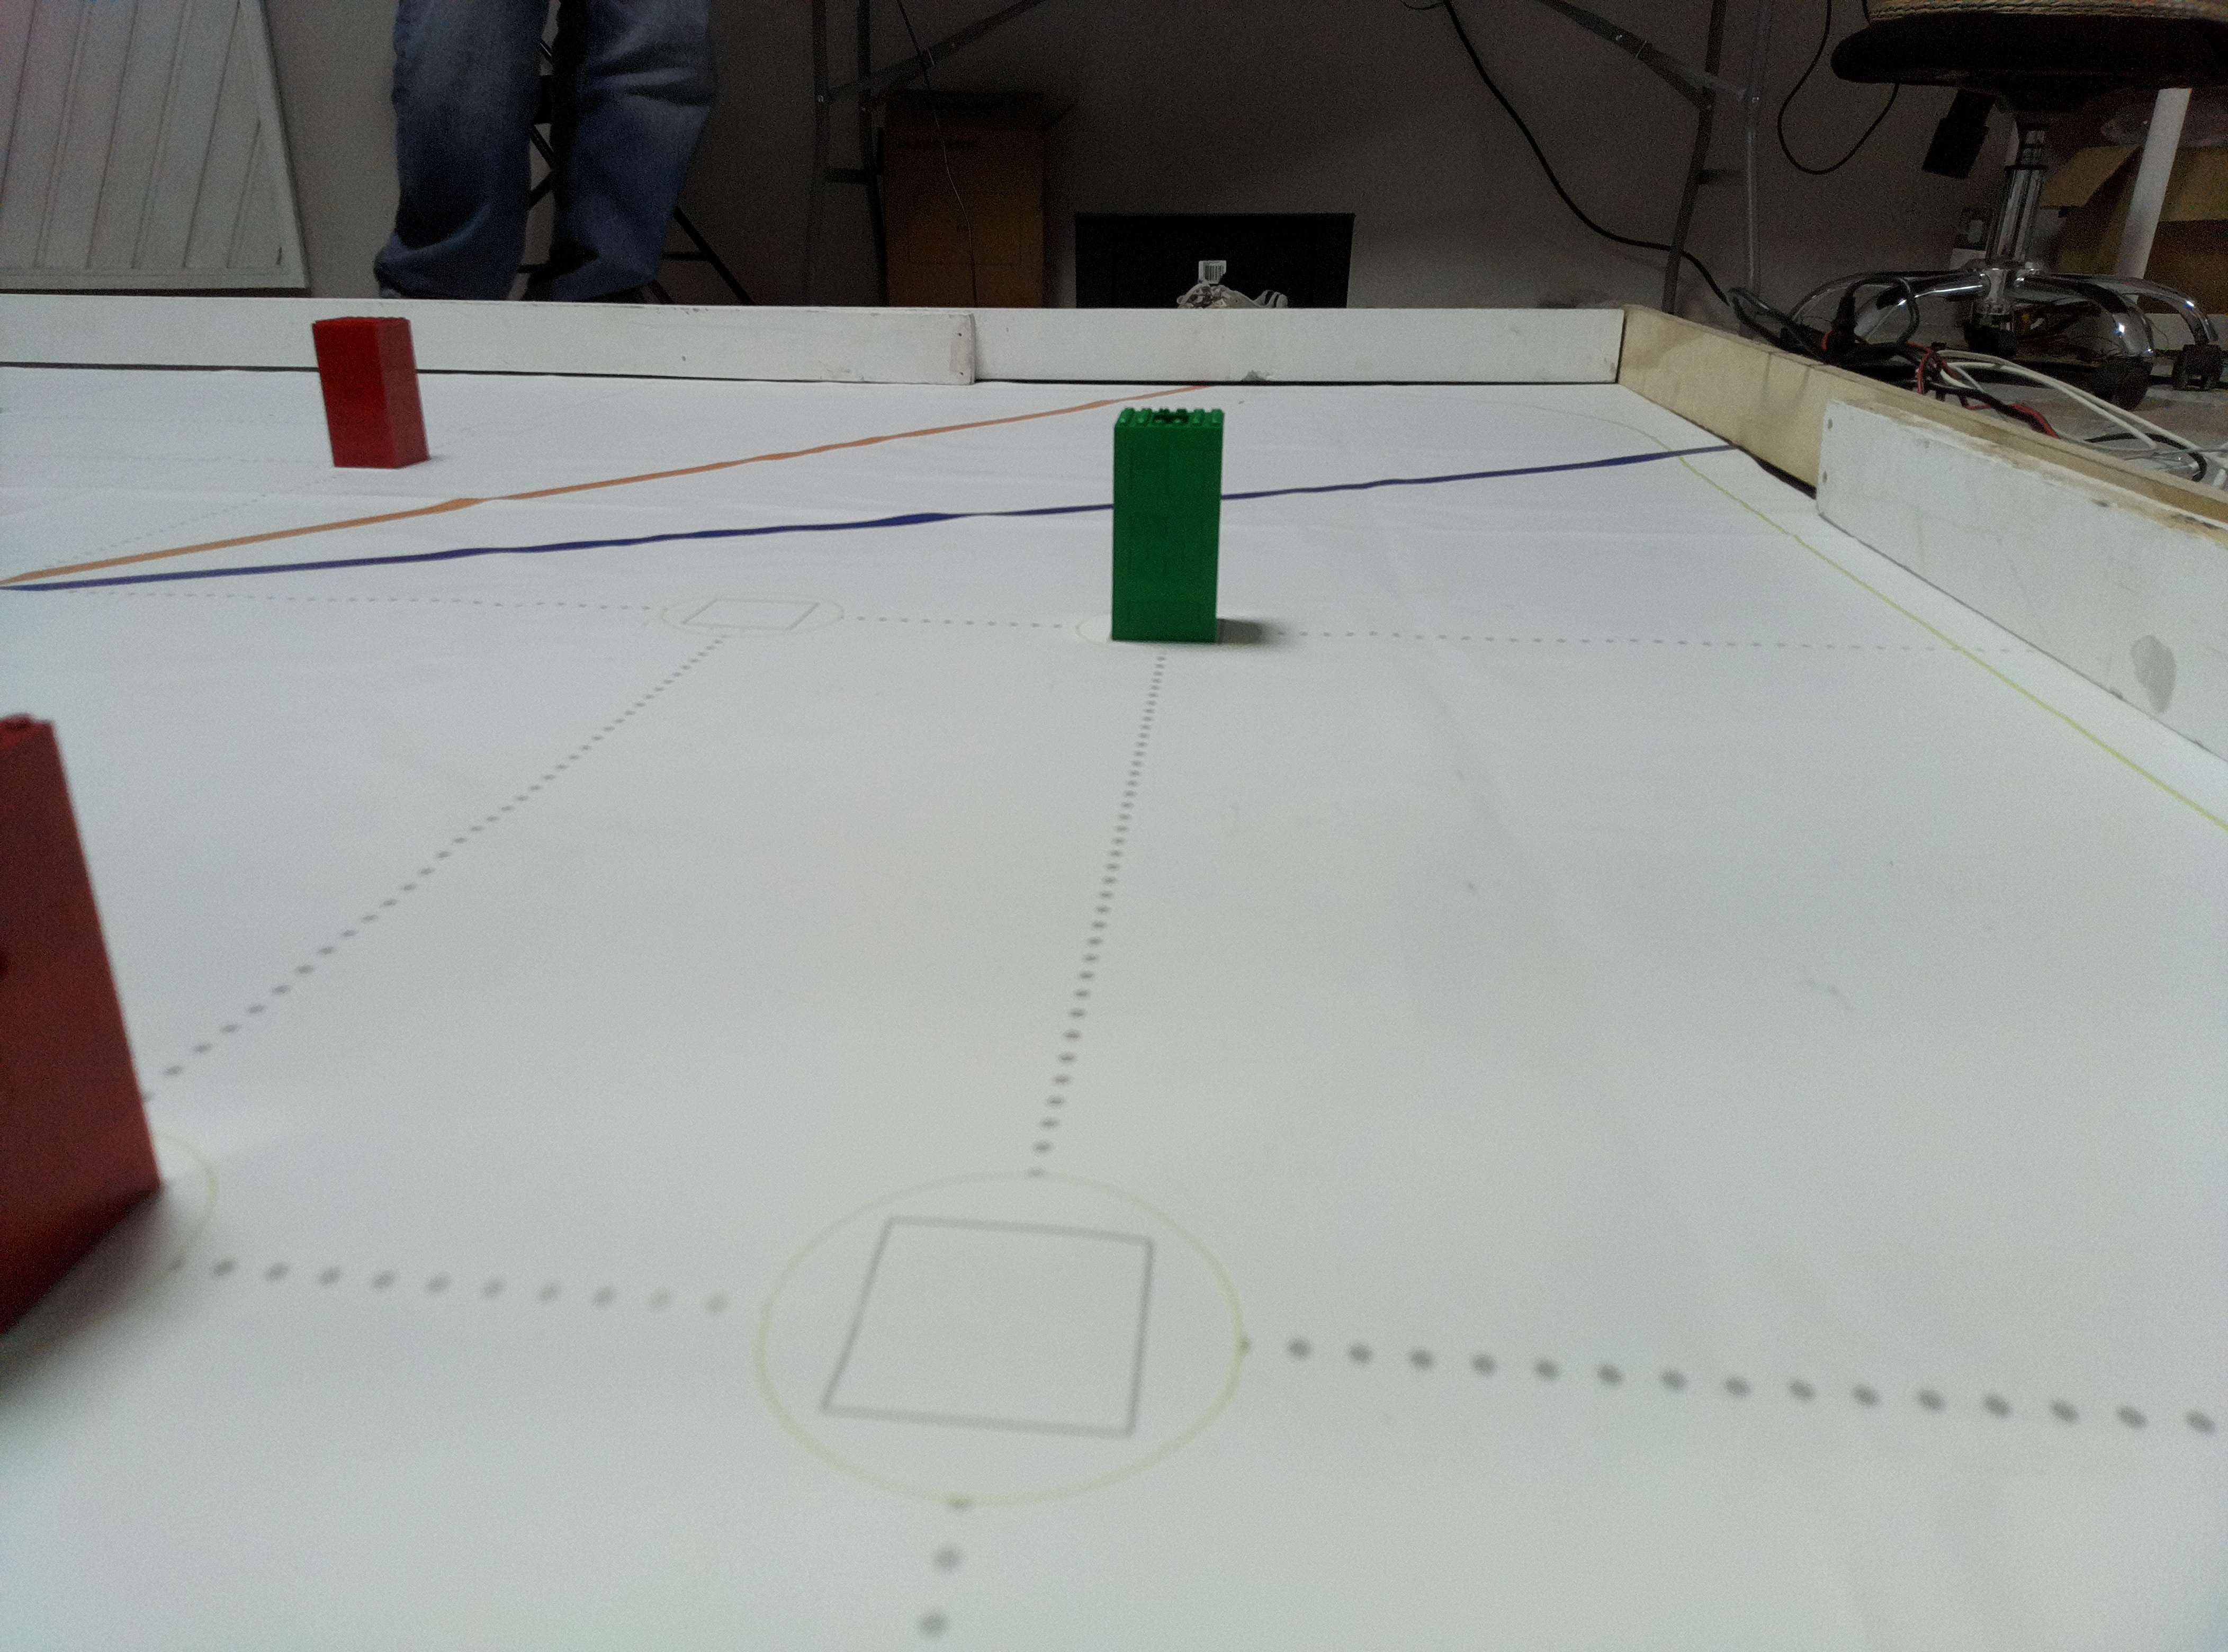greenbox: (1103, 401, 1230, 644)
redbox: (0, 715, 182, 1322), (311, 315, 425, 469)
